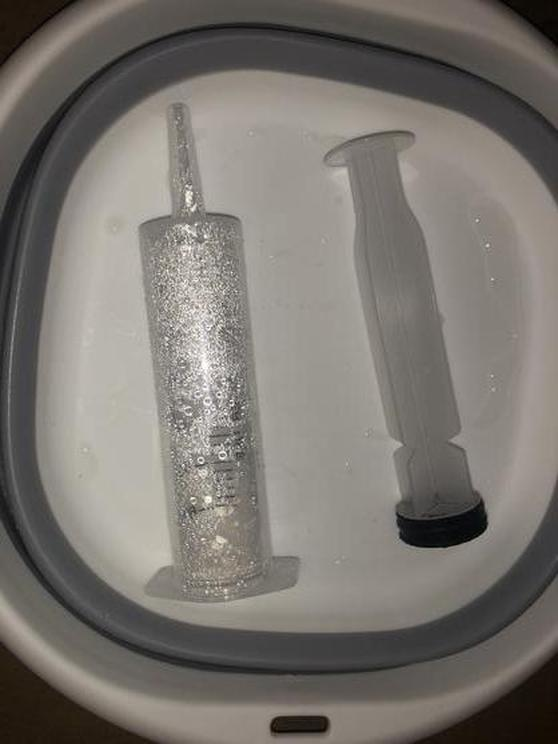wetsyringe: (135, 104, 303, 598)
